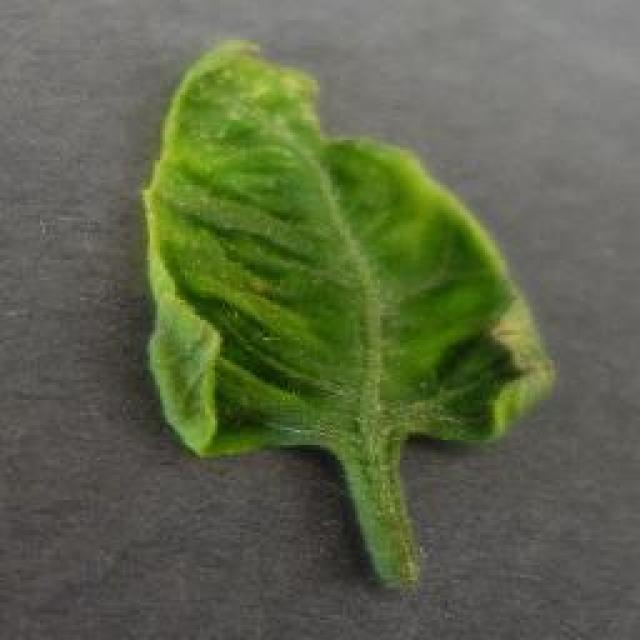Tomato yellow virus leaf: (142, 34, 554, 464)
